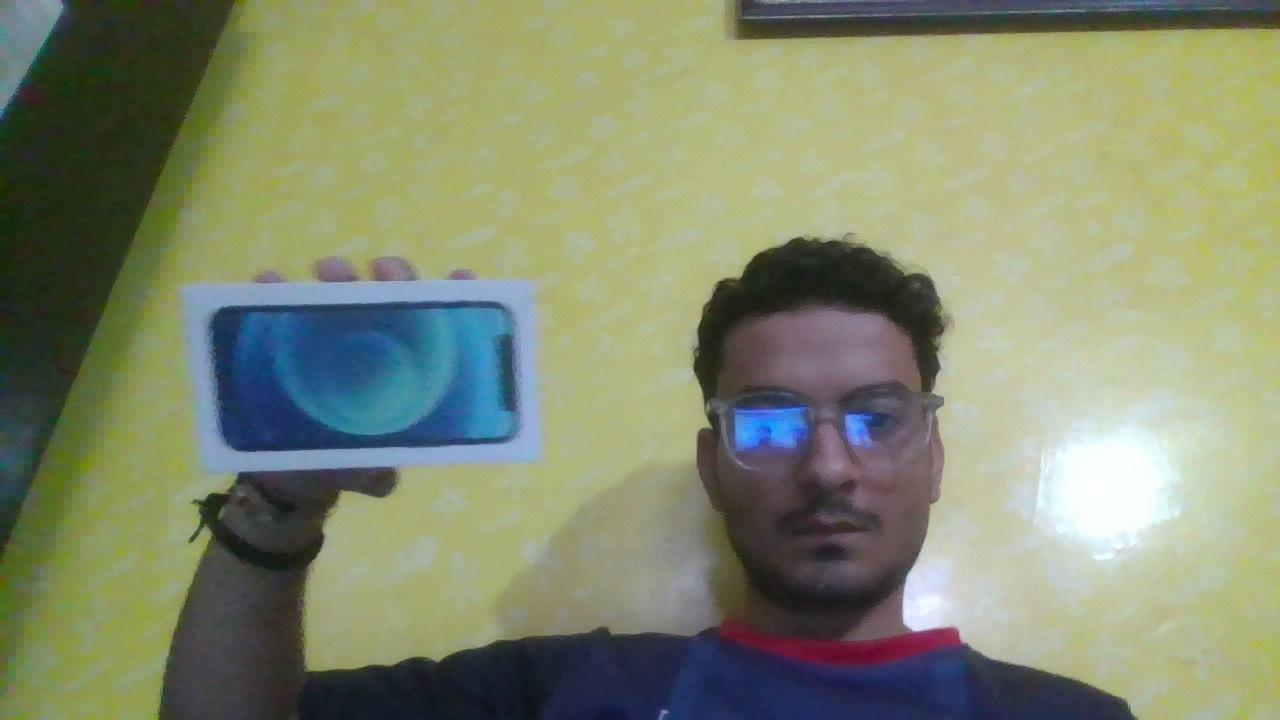Phone: (189, 300, 557, 484)
